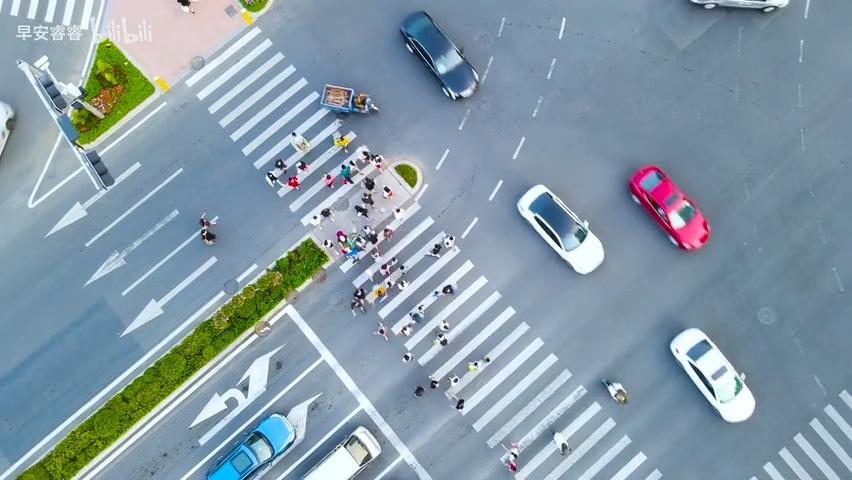Civilian: (601, 377, 627, 404), (338, 245, 366, 268), (198, 212, 215, 245), (550, 428, 570, 455), (331, 227, 353, 247), (290, 130, 309, 152), (380, 224, 397, 246), (467, 355, 490, 371), (319, 237, 339, 255), (350, 295, 366, 316), (393, 276, 410, 295), (373, 321, 388, 341), (409, 304, 424, 324), (369, 284, 386, 301), (200, 227, 216, 245), (340, 164, 354, 184), (333, 135, 348, 153), (176, 0, 196, 13), (360, 222, 376, 238), (364, 95, 378, 113), (321, 172, 335, 189), (433, 330, 448, 345), (426, 242, 441, 257), (320, 207, 335, 222), (353, 93, 365, 111), (287, 175, 300, 191), (310, 214, 323, 230), (361, 192, 374, 208), (443, 234, 455, 251), (378, 261, 392, 275), (509, 441, 520, 458), (296, 160, 309, 174), (381, 185, 394, 199), (369, 247, 383, 260), (275, 158, 287, 173), (614, 388, 626, 403), (507, 455, 517, 472), (339, 90, 349, 107), (266, 171, 278, 185), (348, 159, 359, 174), (400, 323, 412, 336), (392, 207, 403, 221), (428, 374, 439, 388), (397, 263, 408, 275), (442, 283, 454, 294), (447, 374, 458, 386), (439, 318, 449, 331), (324, 88, 332, 104), (467, 360, 478, 371), (402, 352, 414, 362), (414, 385, 424, 396), (455, 398, 464, 409)
